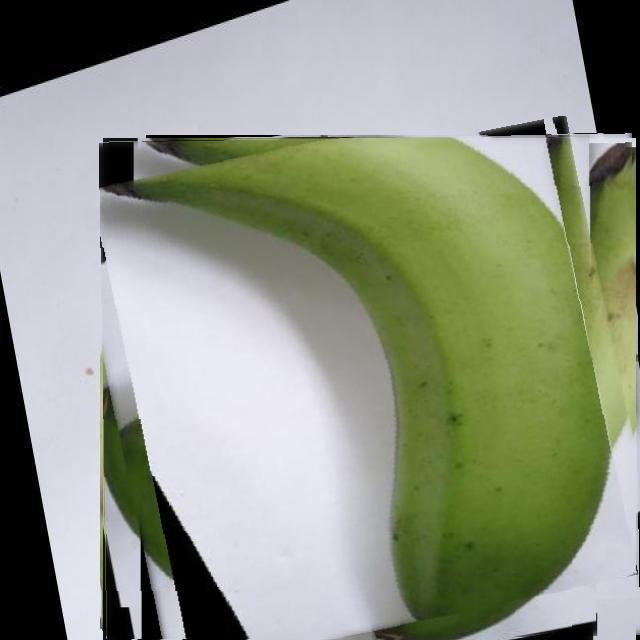Verde: (100, 134, 638, 640)
